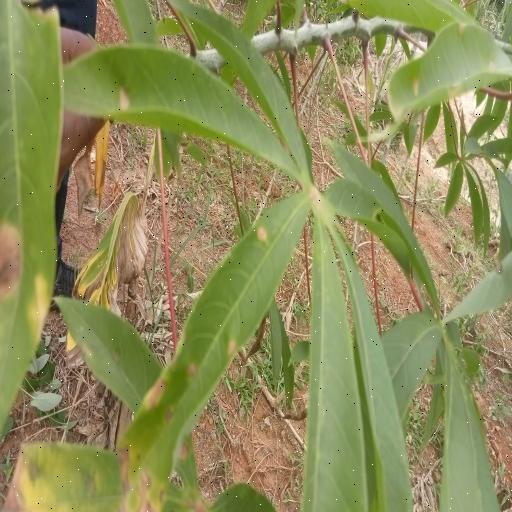Cassava_Brown_Leaf_Spot: (66, 0, 432, 512)
